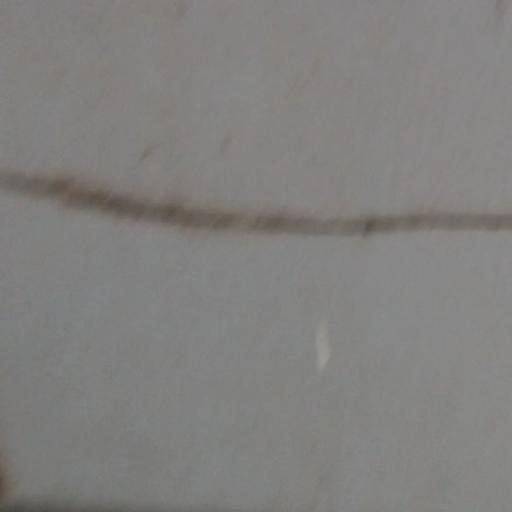stain: (1, 142, 512, 266)
